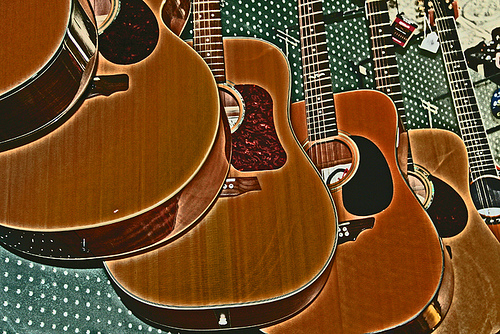guitar: (101, 1, 341, 329), (234, 1, 455, 334), (1, 1, 234, 262), (358, 1, 500, 334)
